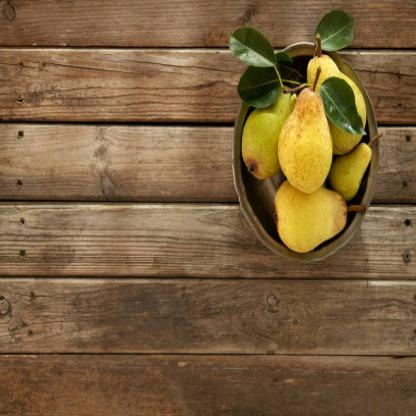Paer: (276, 178, 362, 252), (288, 74, 334, 190), (243, 84, 296, 178)
